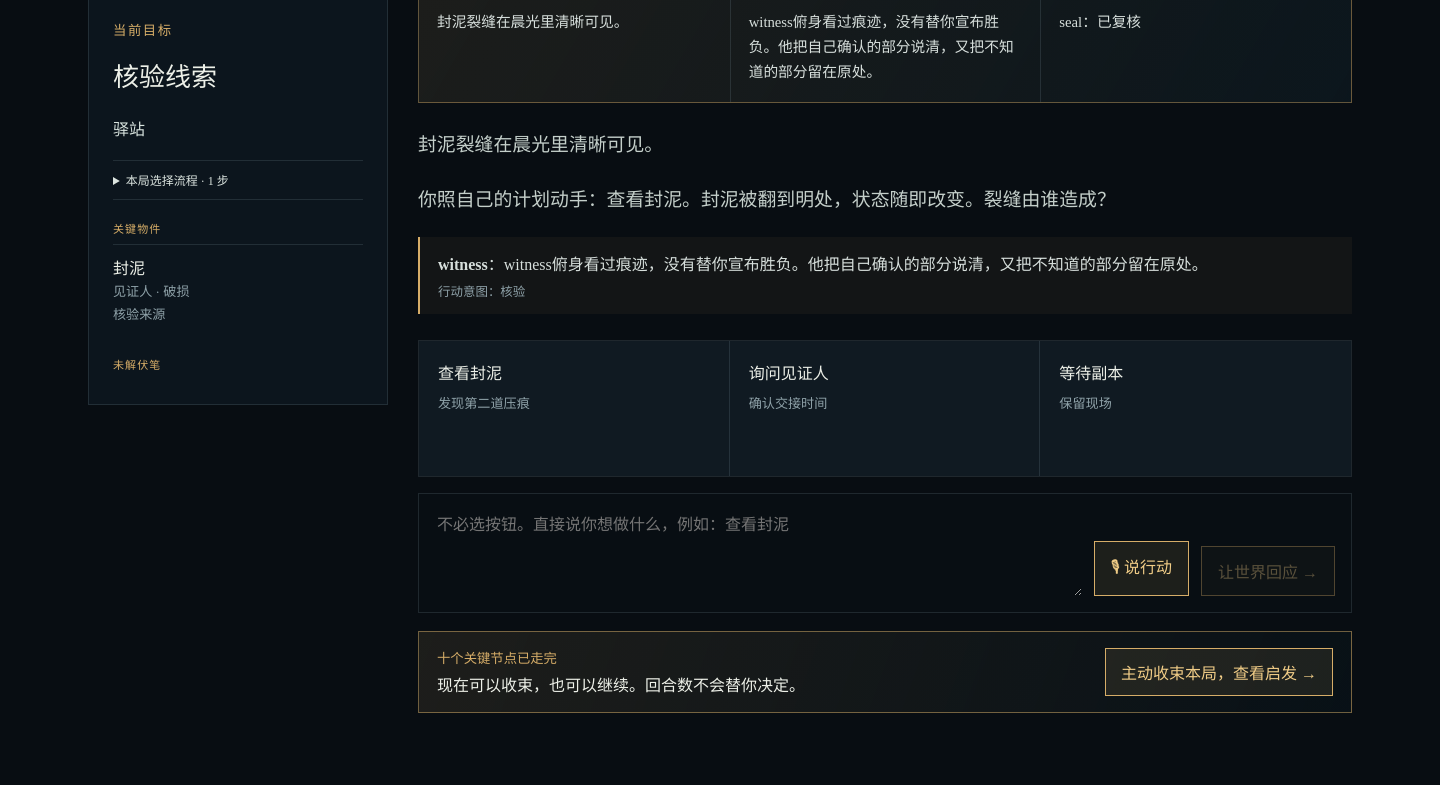
Test case: generative PGC chapter visuals › offers an explicit optional ending after the authored nodes without forcing it
(page scrolled)
Expected: the button "查看封泥 发现第二道压痕" is shown, [419,341,730,476]
Click the button "主动收束本局，查看启发 →": point(1219, 672) [1105,648,1333,696]
(page scrolled)
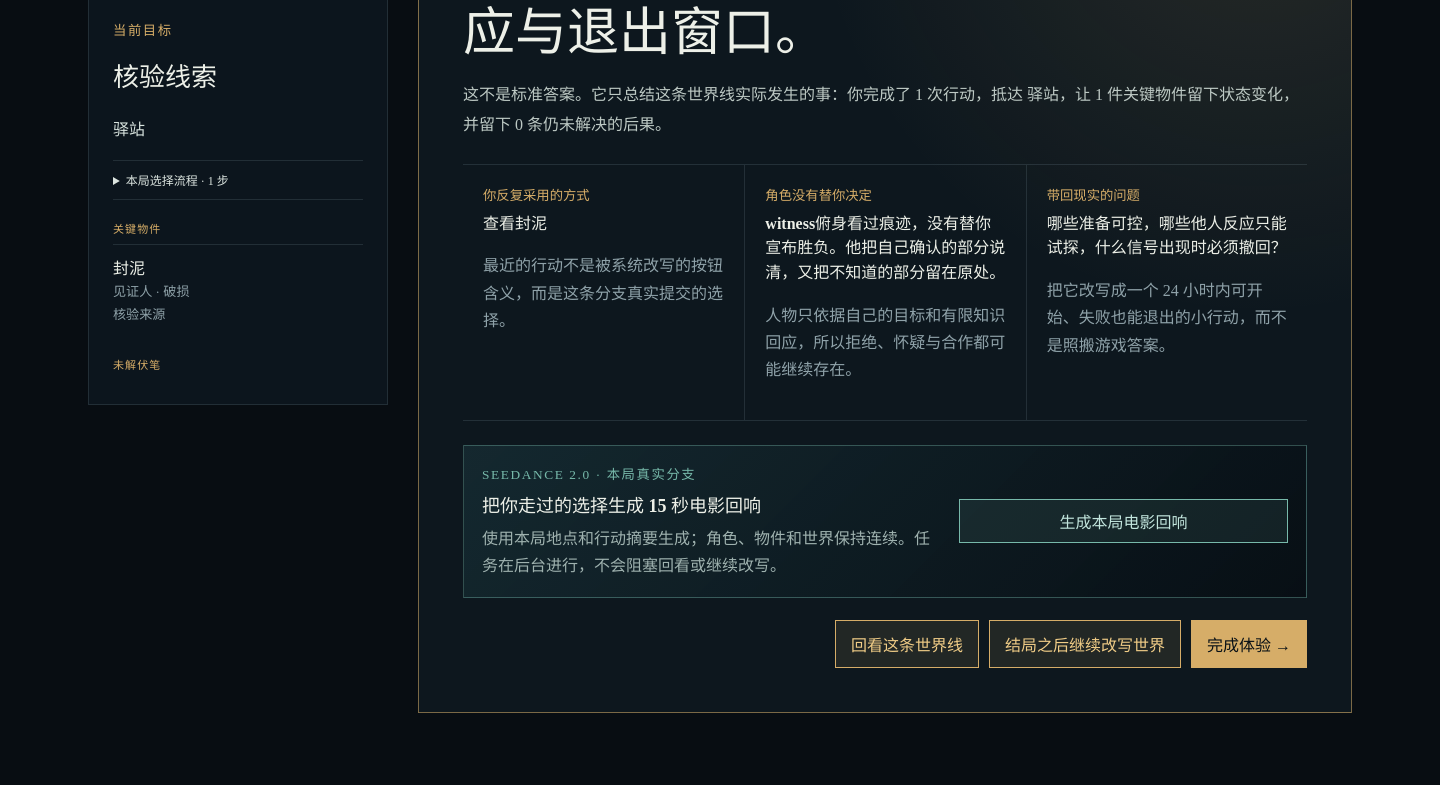
Click the button "结局之后继续改写世界": point(1085, 644) [989,620,1181,668]
(page scrolled)
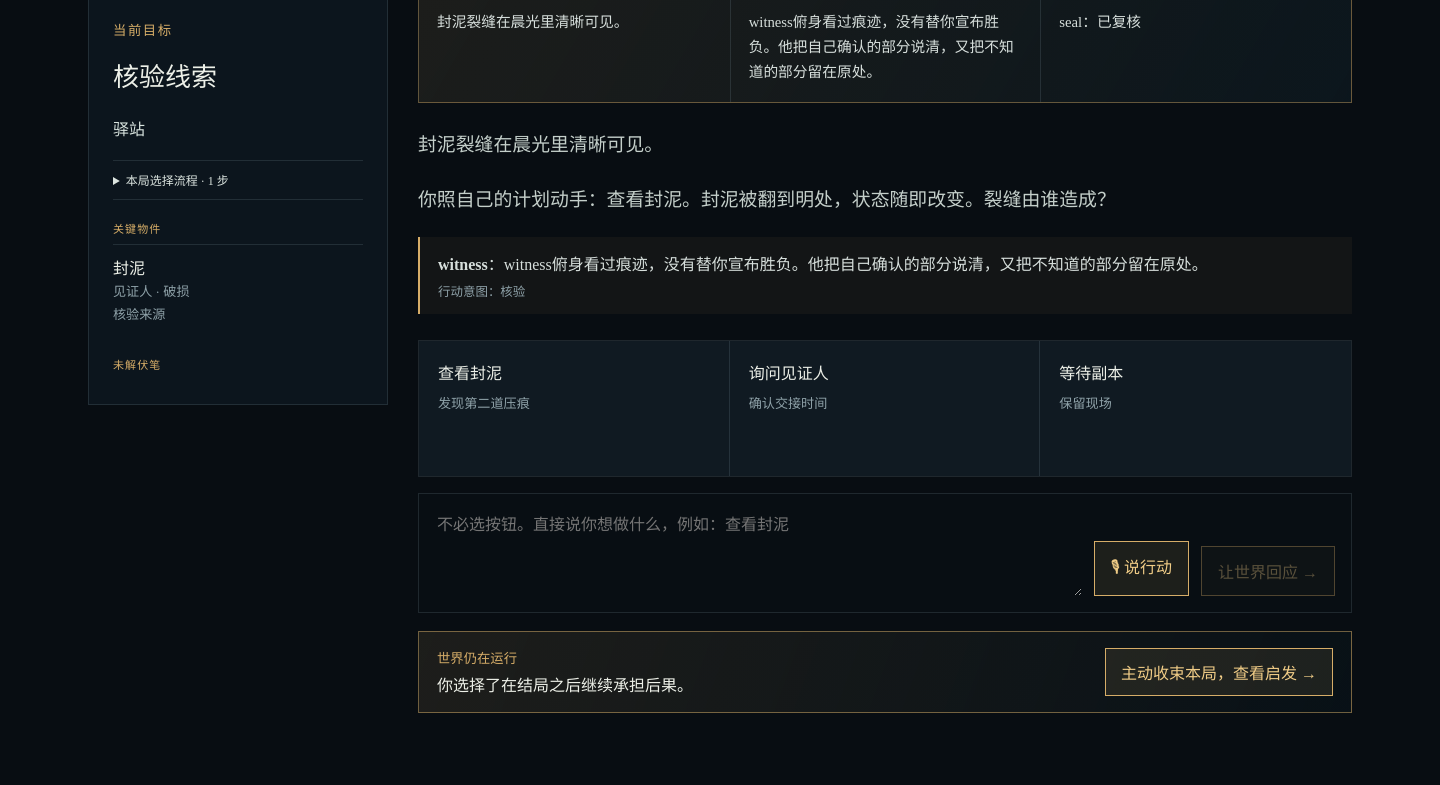
Now the text "你选择了在结局之后继续承担后果。" is shown, box [437,672,693,696]
